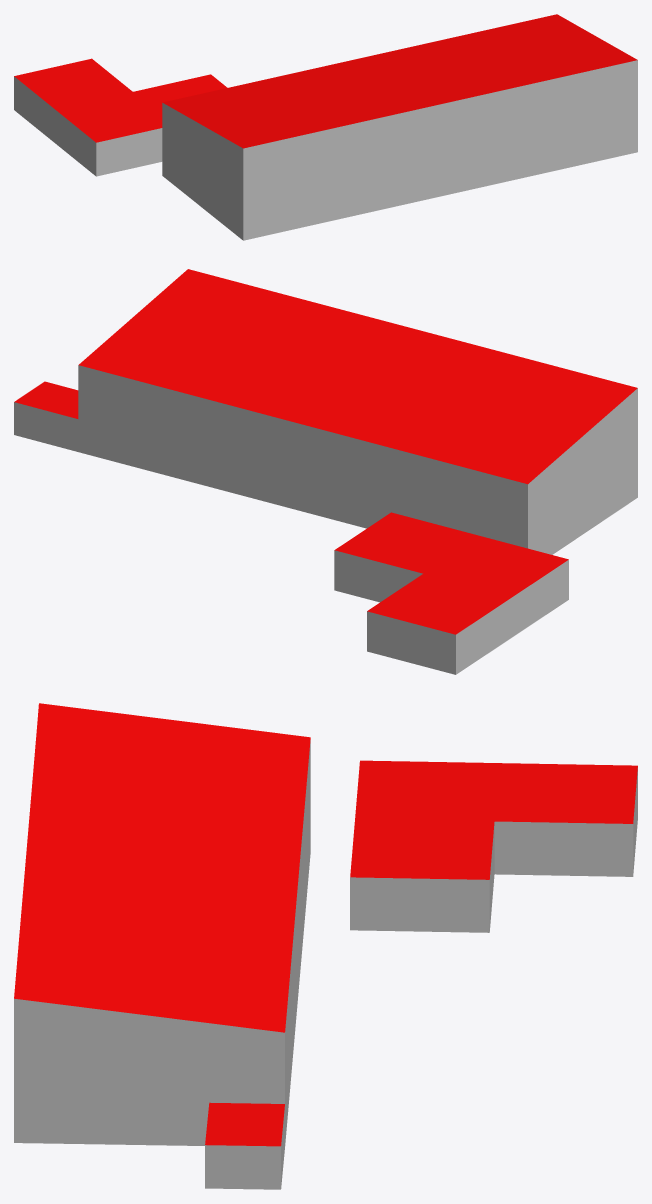
The picture shows the model from 3 angles, top to bottom: view 1: azimuth 30°, elevation 25°; view 2: azimuth 150°, elevation 25°; view 3: azimuth 270°, elevation 25°; orthographic projection. The views are drawn at different scales.
Size of the model in its own units: 38.57 by 6.9 by 27.04.
